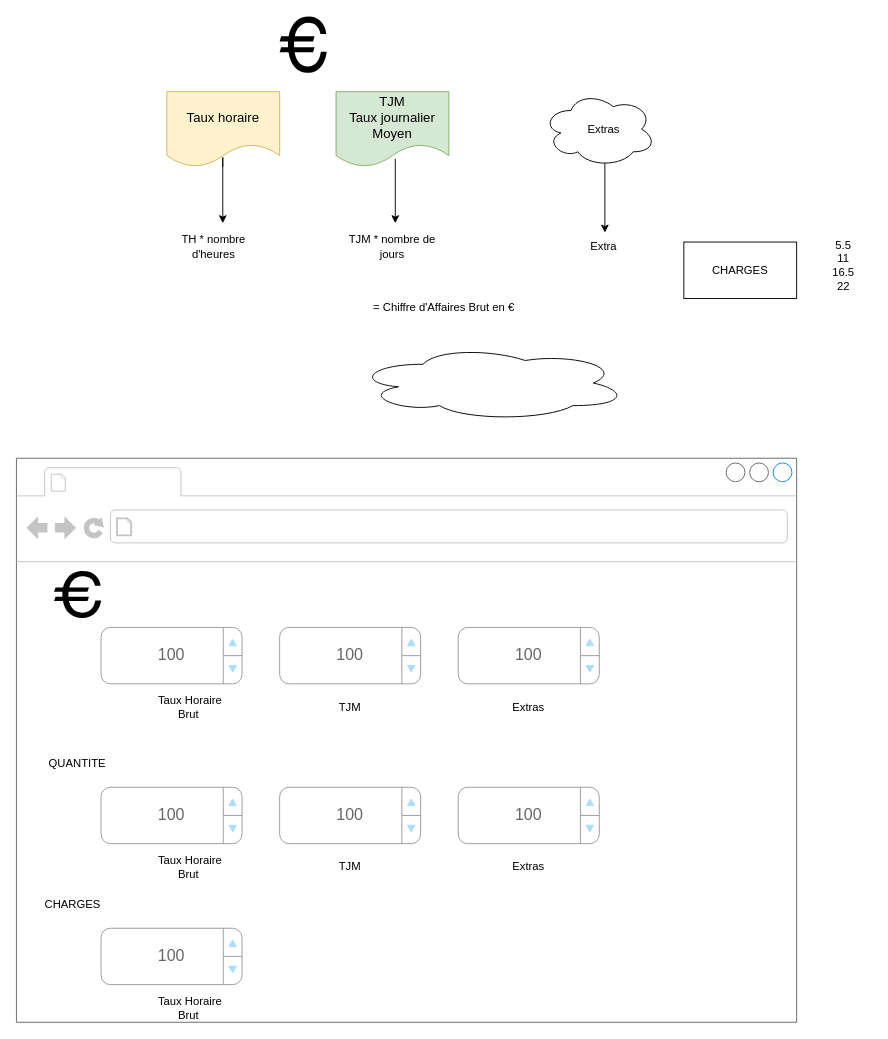
Image size: 888x1039. Some labels were removed from this diagram. Here are the shapes that lost their labels. From the top down, the box of each, then its label:
(354, 345, 627, 421): CA - X% de charges
(72, 469, 176, 494): Page 1
(138, 514, 374, 539): https://www.draw.io
